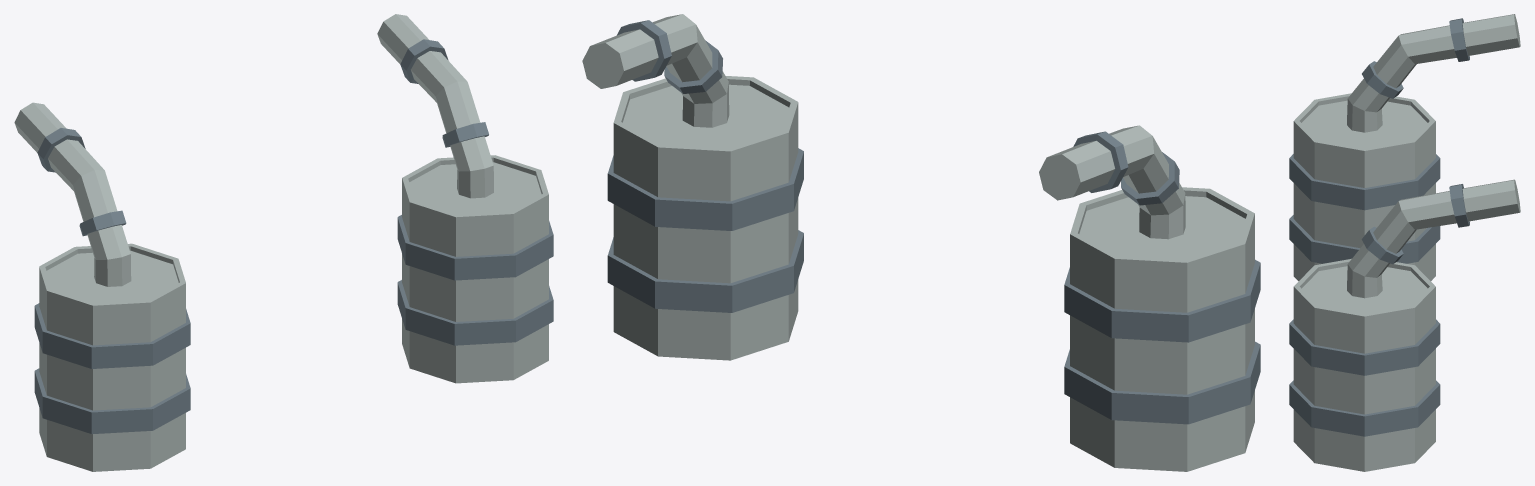
File: Hab_Can 2.fbx
3 views of the same model, side by side, from view 1: azimuth 30°, elevation 25°; view 2: azimuth 150°, elevation 25°; view 3: azimuth 270°, elevation 25° (orthographic). The views are drawn at different scales.
Visible parts, largest first — view 1: HabBarrel1, HabBarrel2; view 2: HabBarrel2, HabBarrel1; view 3: HabBarrel2, HabBarrel1.
Part boxes in pixels (left/top/right/bottom): HabBarrel1: left=14, top=102, right=190, bottom=471; HabBarrel2: left=377, top=14, right=553, bottom=383; HabBarrel2: left=582, top=14, right=803, bottom=360; HabBarrel1: left=1039, top=125, right=1260, bottom=471; HabBarrel2: left=1289, top=179, right=1520, bottom=471; HabBarrel1: left=1289, top=14, right=1520, bottom=281.
Bounding box in the file's own units: 411 × 219 × 175.
